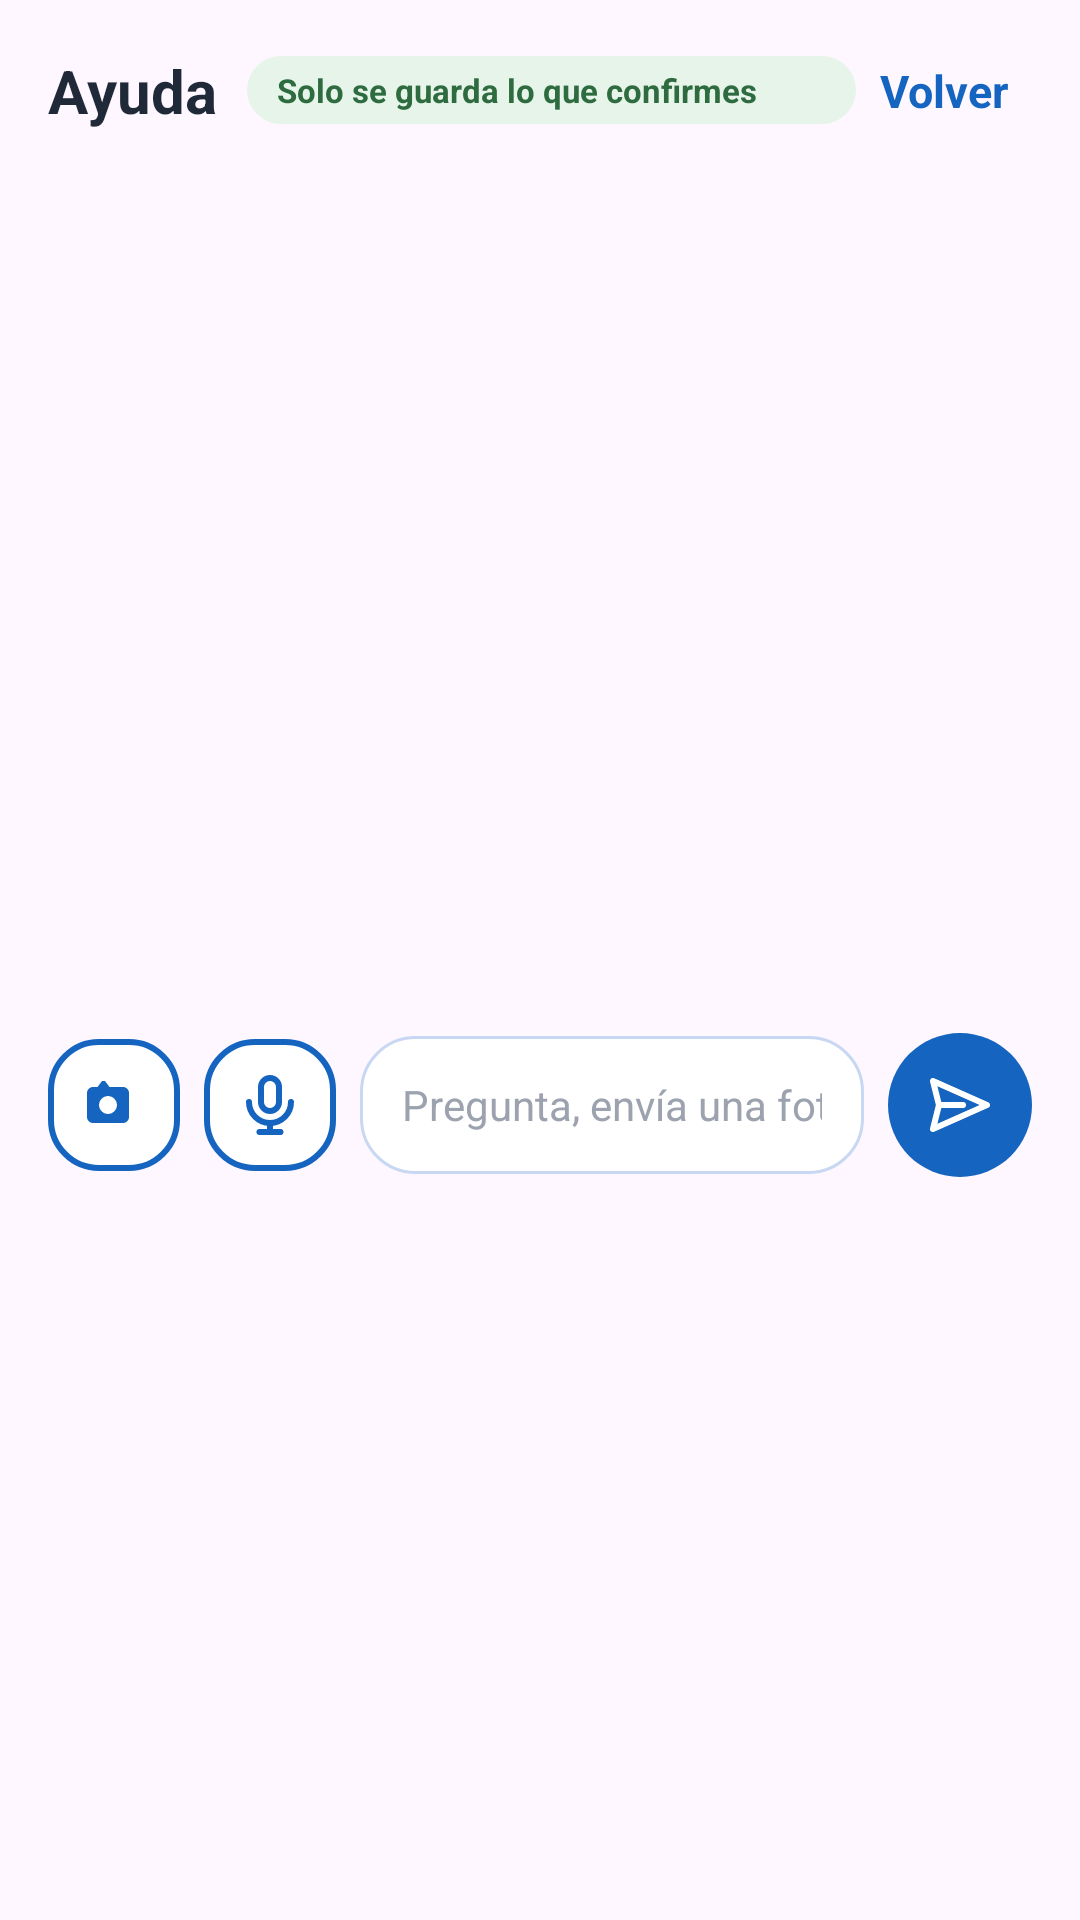

Icon bounding boxes for this 1080 × 1920 phone screenshot, format (x1, y1, x2, y2):
Dictar: (204, 1039, 336, 1171)
Enviar: (888, 1033, 1032, 1177)
Enviar una foto: (48, 1039, 180, 1171)
